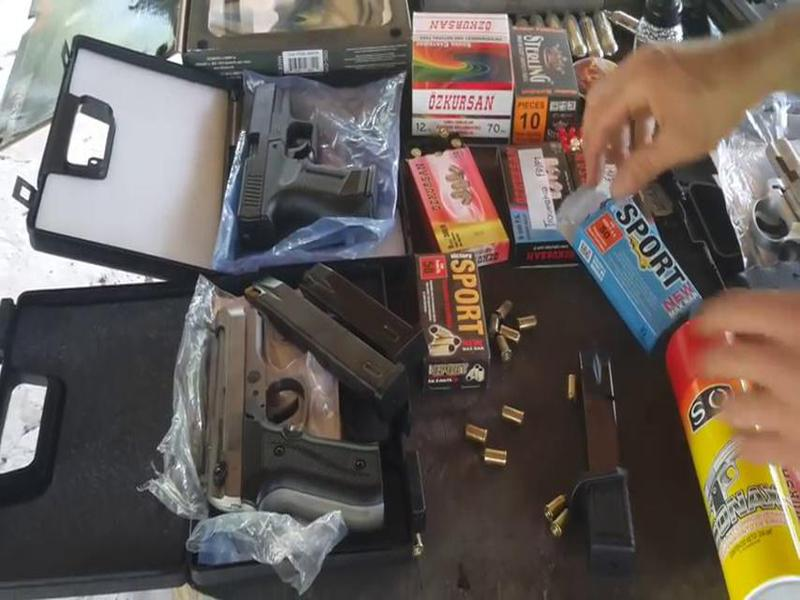Pistola: (163, 272, 389, 559), (232, 63, 393, 257)
